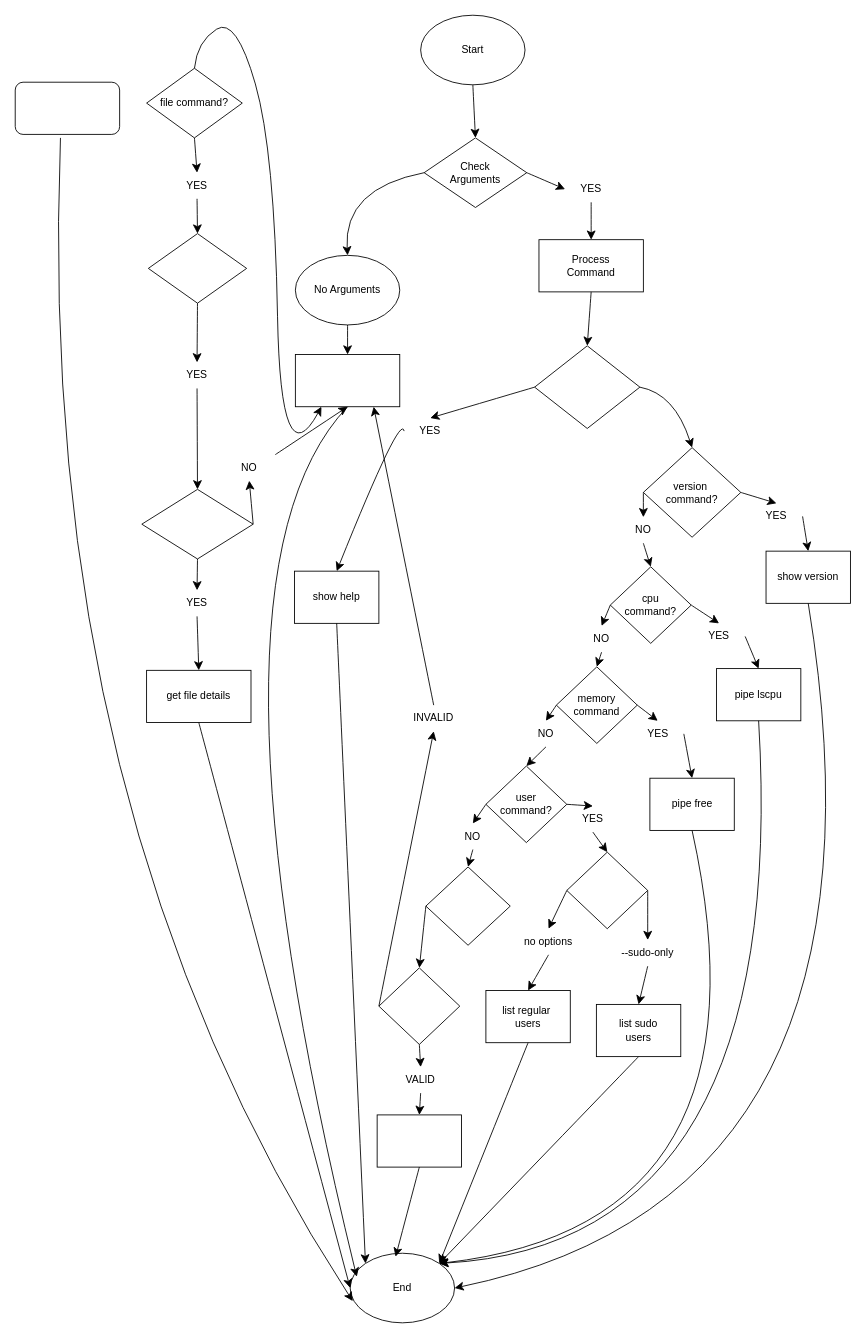
Some shapes in this 866 by 1338 pixel diagram are drawn without their labels. The shapes that lost their labels are listed below. From the top down, each one's centre as x and y in pixels, then its label:
the point at 67,107: Invalid Command
the point at 197,268: get file info?
the point at 347,380: Print Error
the point at 587,386: help command?
the point at 197,524: check file exists?
the point at 467,905: create user?
the point at 607,890: list users?
the point at 419,1005: check username
the point at 419,1140: create user
